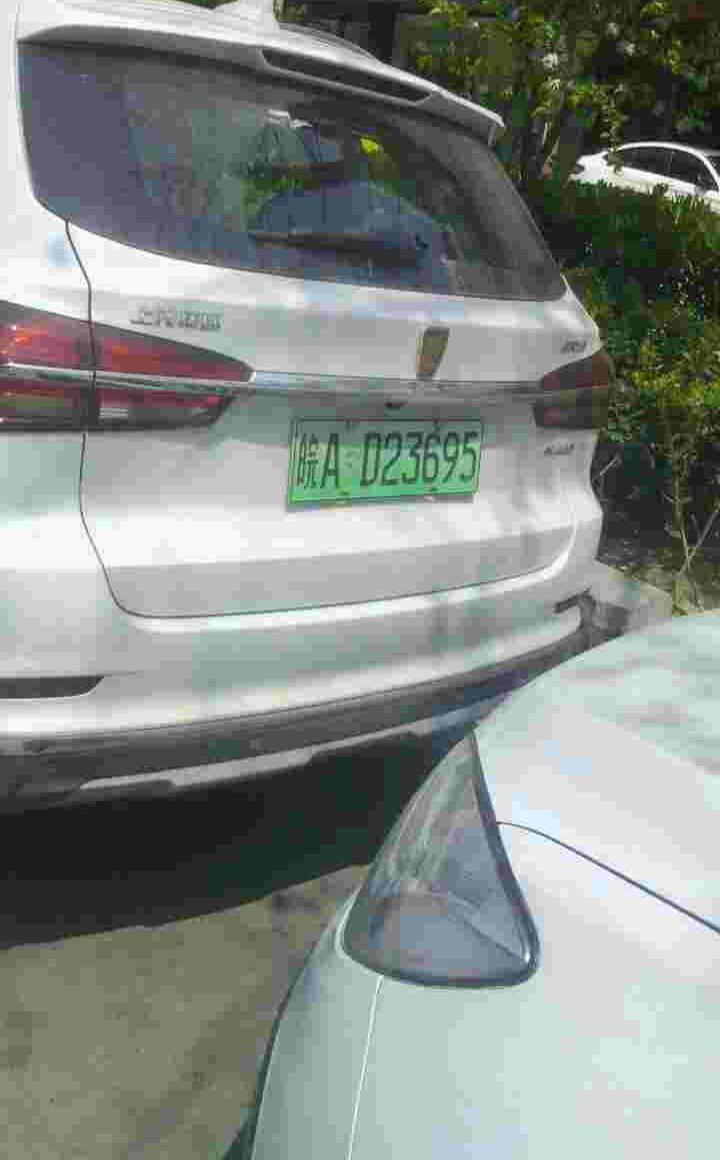car_id: (285, 419, 483, 500)
